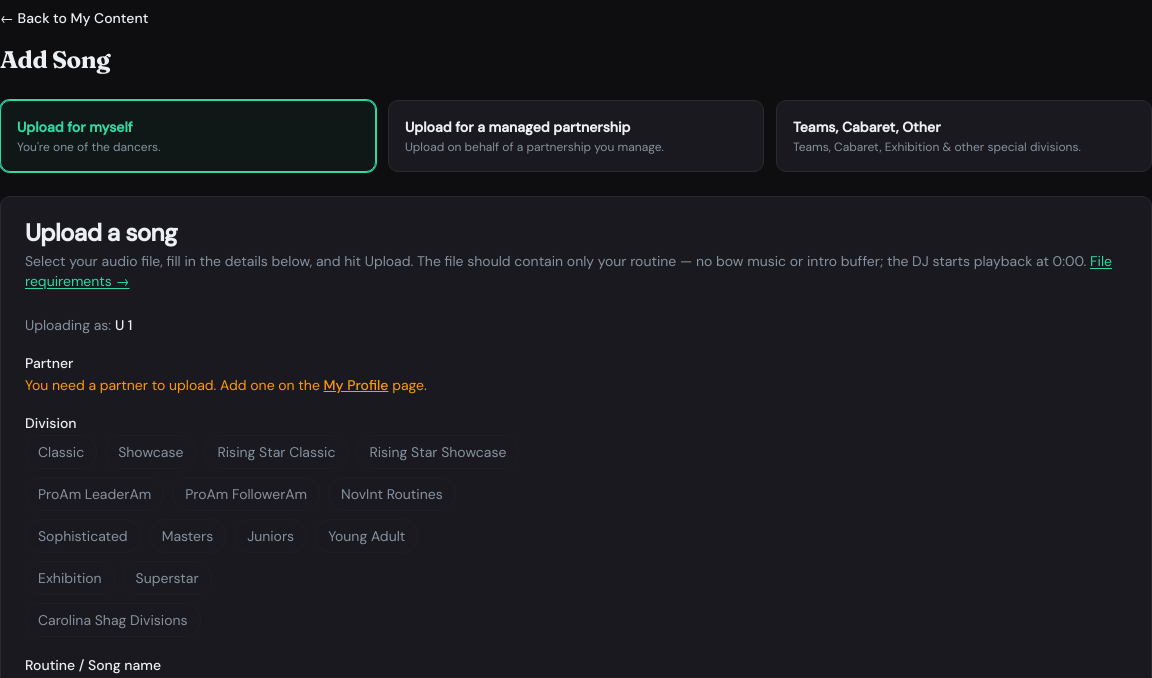
Test: AddSongPage — mode toggle › shows the special upload form when Teams, Cabaret, Other is selected
Click the button "Teams, Cabaret, Other": {"x": 964, "y": 136} [776, 100, 1151, 172]
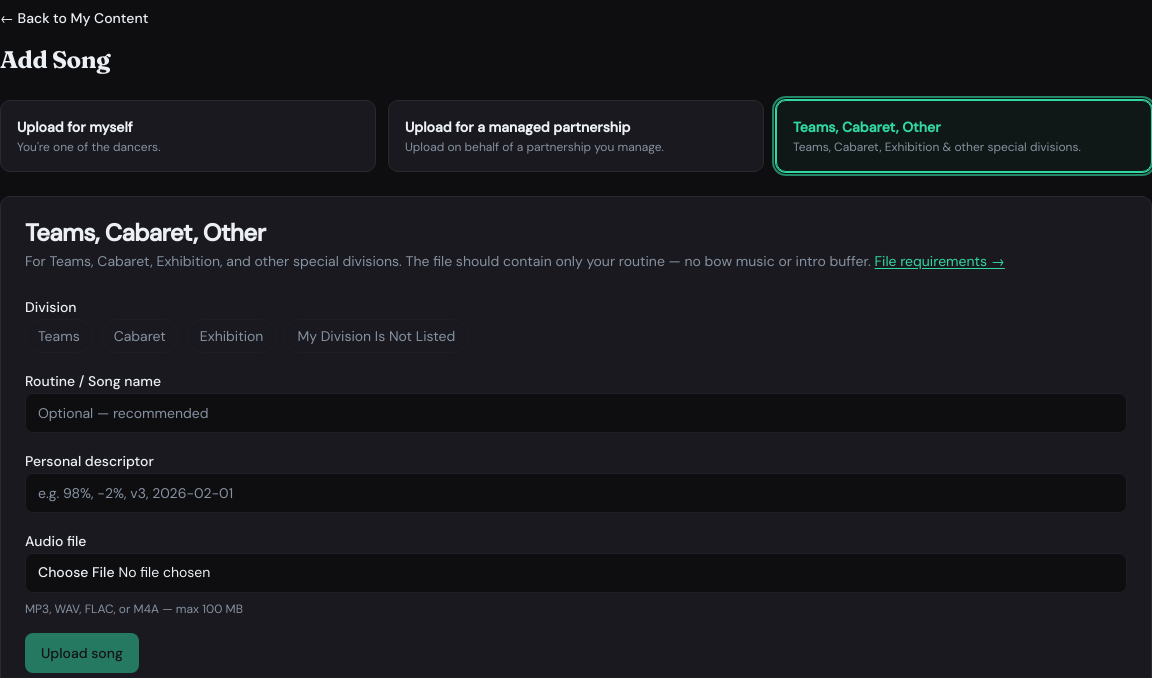
Expected: the element "Teams Cabaret Exhibition My Division Is Not Listed" is shown, [25, 319, 468, 353]
Click the radio button labelled "Cabaret": {"x": 140, "y": 336} [101, 319, 179, 353]
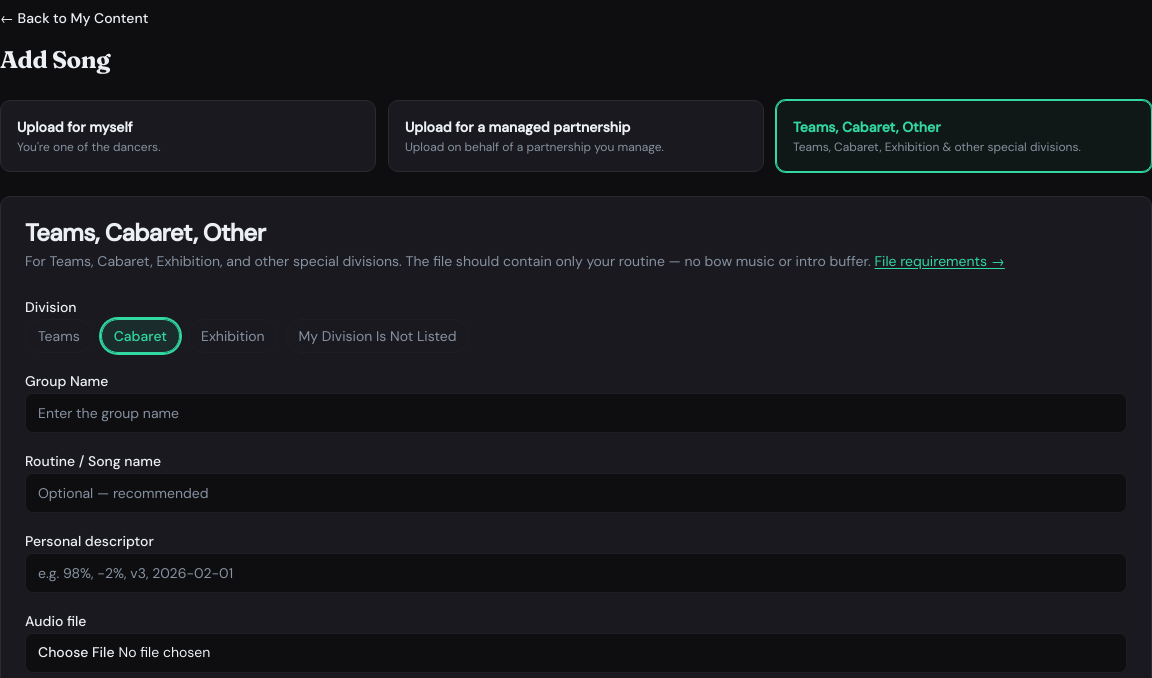
Expected: the field labelled "Group Name" is shown, [25, 393, 1127, 433]
